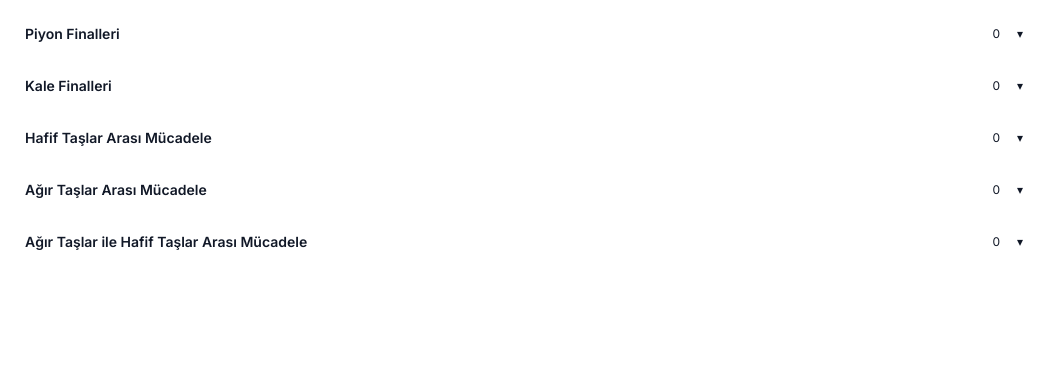
it: CategorizedPositionPool › bir karta tıklayınca konum ekleme alanı açılır
This screenshot has width=1048, height=390.
Click the text "Piyon Finalleri" at point(72, 34), box [25,25,120,42]
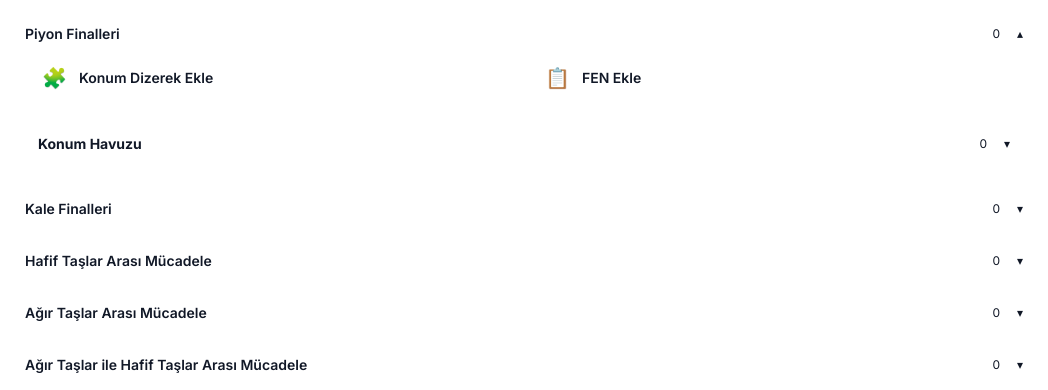
Now the text "Konum Dizerek Ekle" is shown, box [79,68,213,88]
Now the text "FEN Ekle" is shown, box [582,68,641,88]
